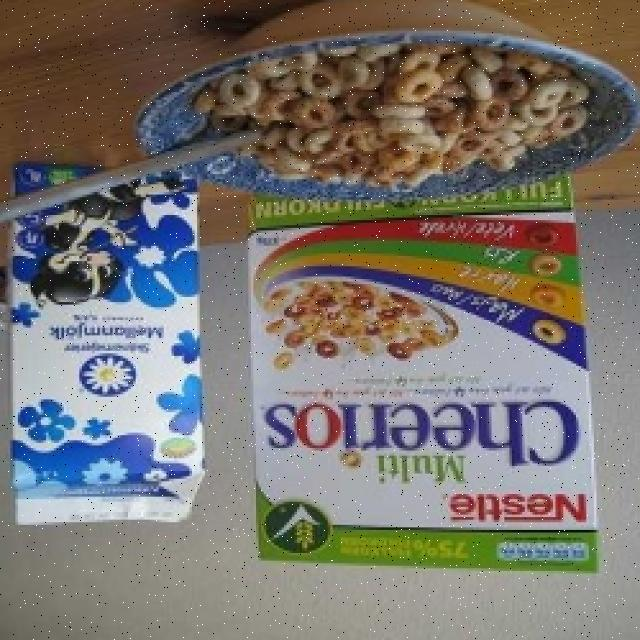box: (249, 177, 606, 583), (0, 164, 213, 520)
